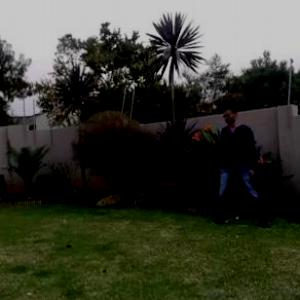follow: (217, 96, 255, 229)
